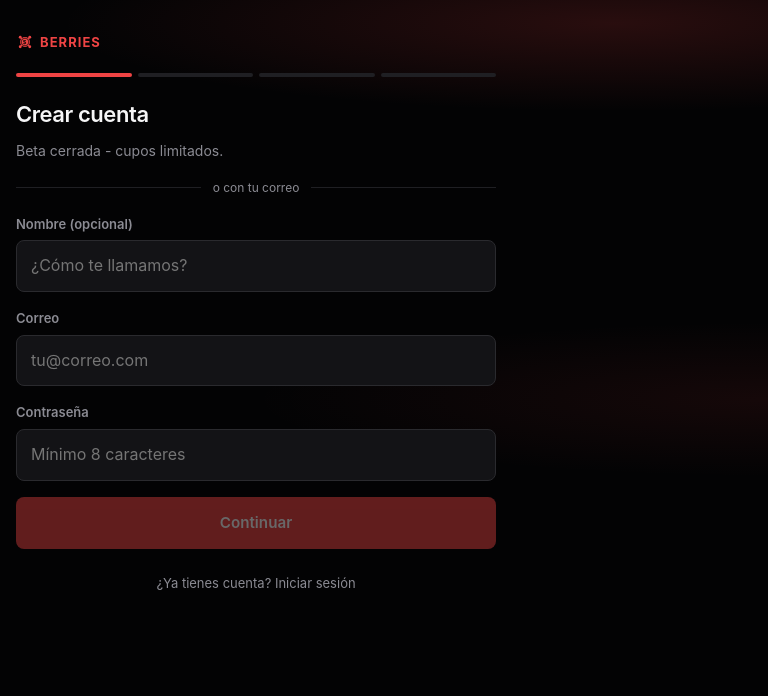
RegisterWizard › sin billeteras o con una sola moneda, el paso de moneda principal se saltea
In the field labelled "Correo": [256, 361] box [16,335,496,386], type "ash@example.com"
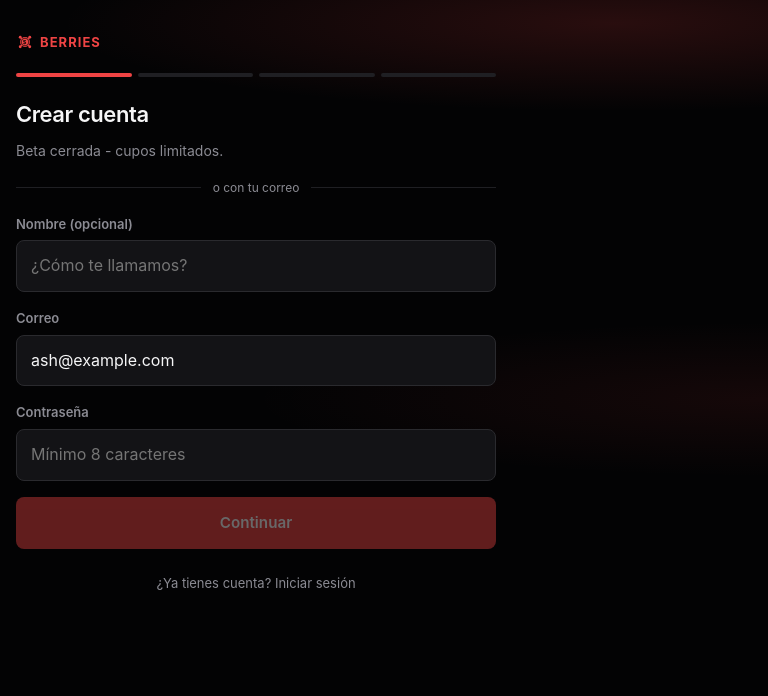
In the password field labelled "Contraseña": [256, 455] box [16,429,496,481], type "clave12345"
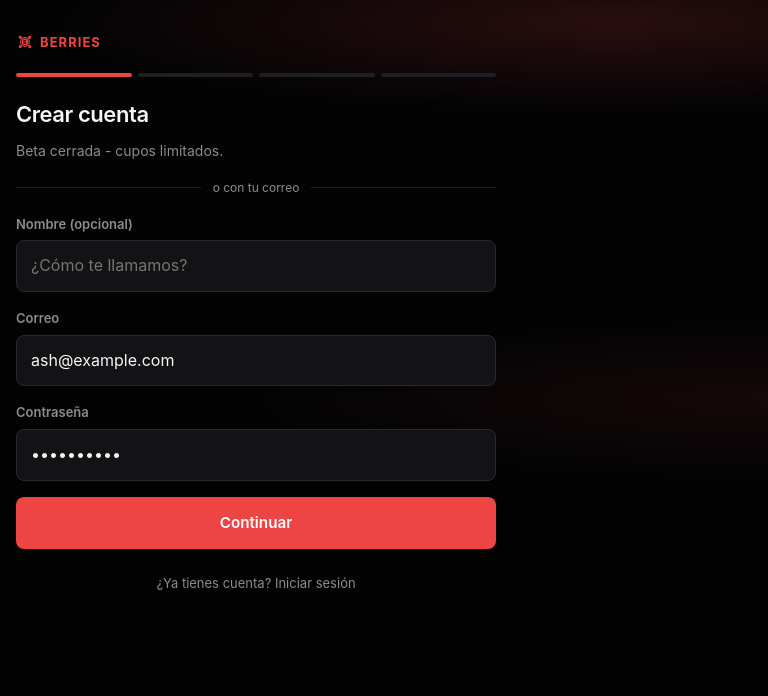
Submit the form, box [16,214,496,549]
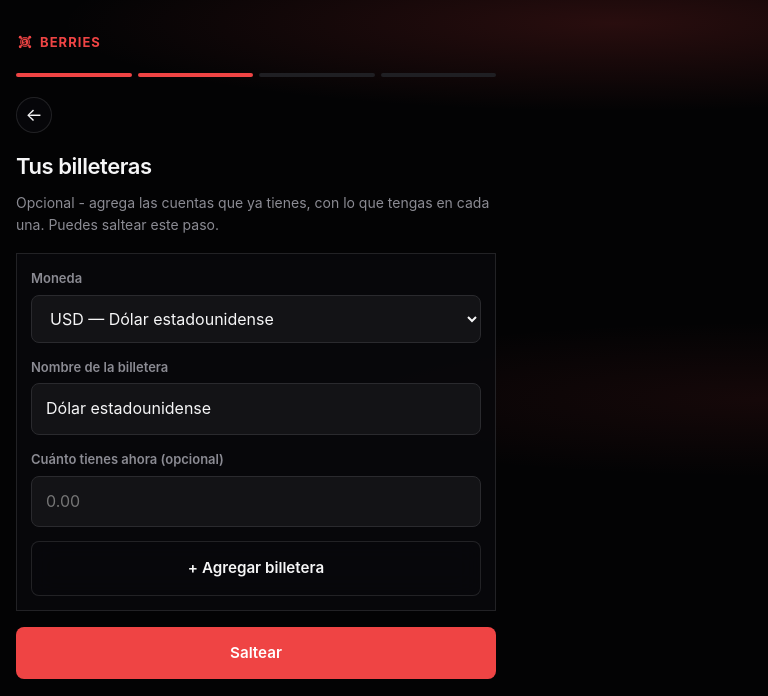
Click the button with class "wizard-next": [256, 653] box [16,627,496,679]
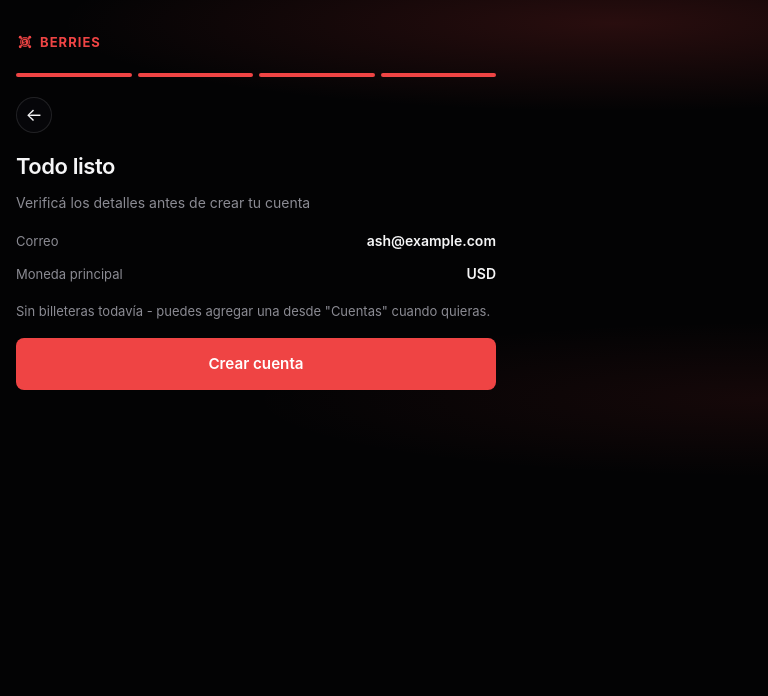
Now the text "Todo listo" is shown, box [16,153,115,179]
